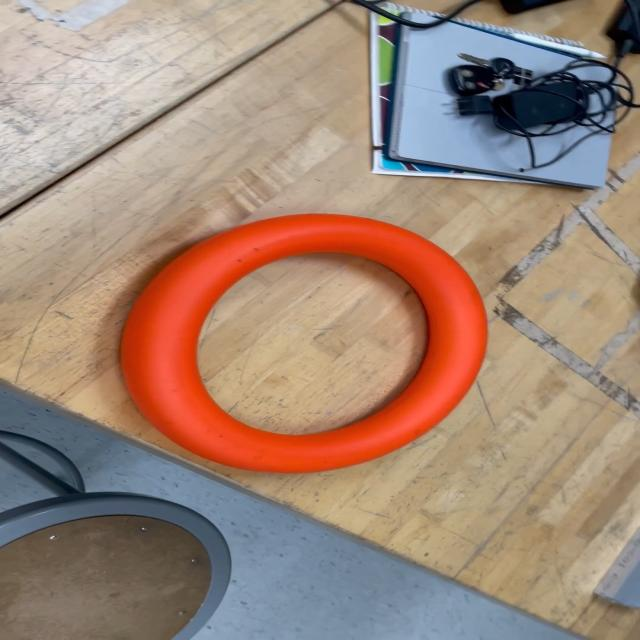note: (116, 212, 492, 475)
